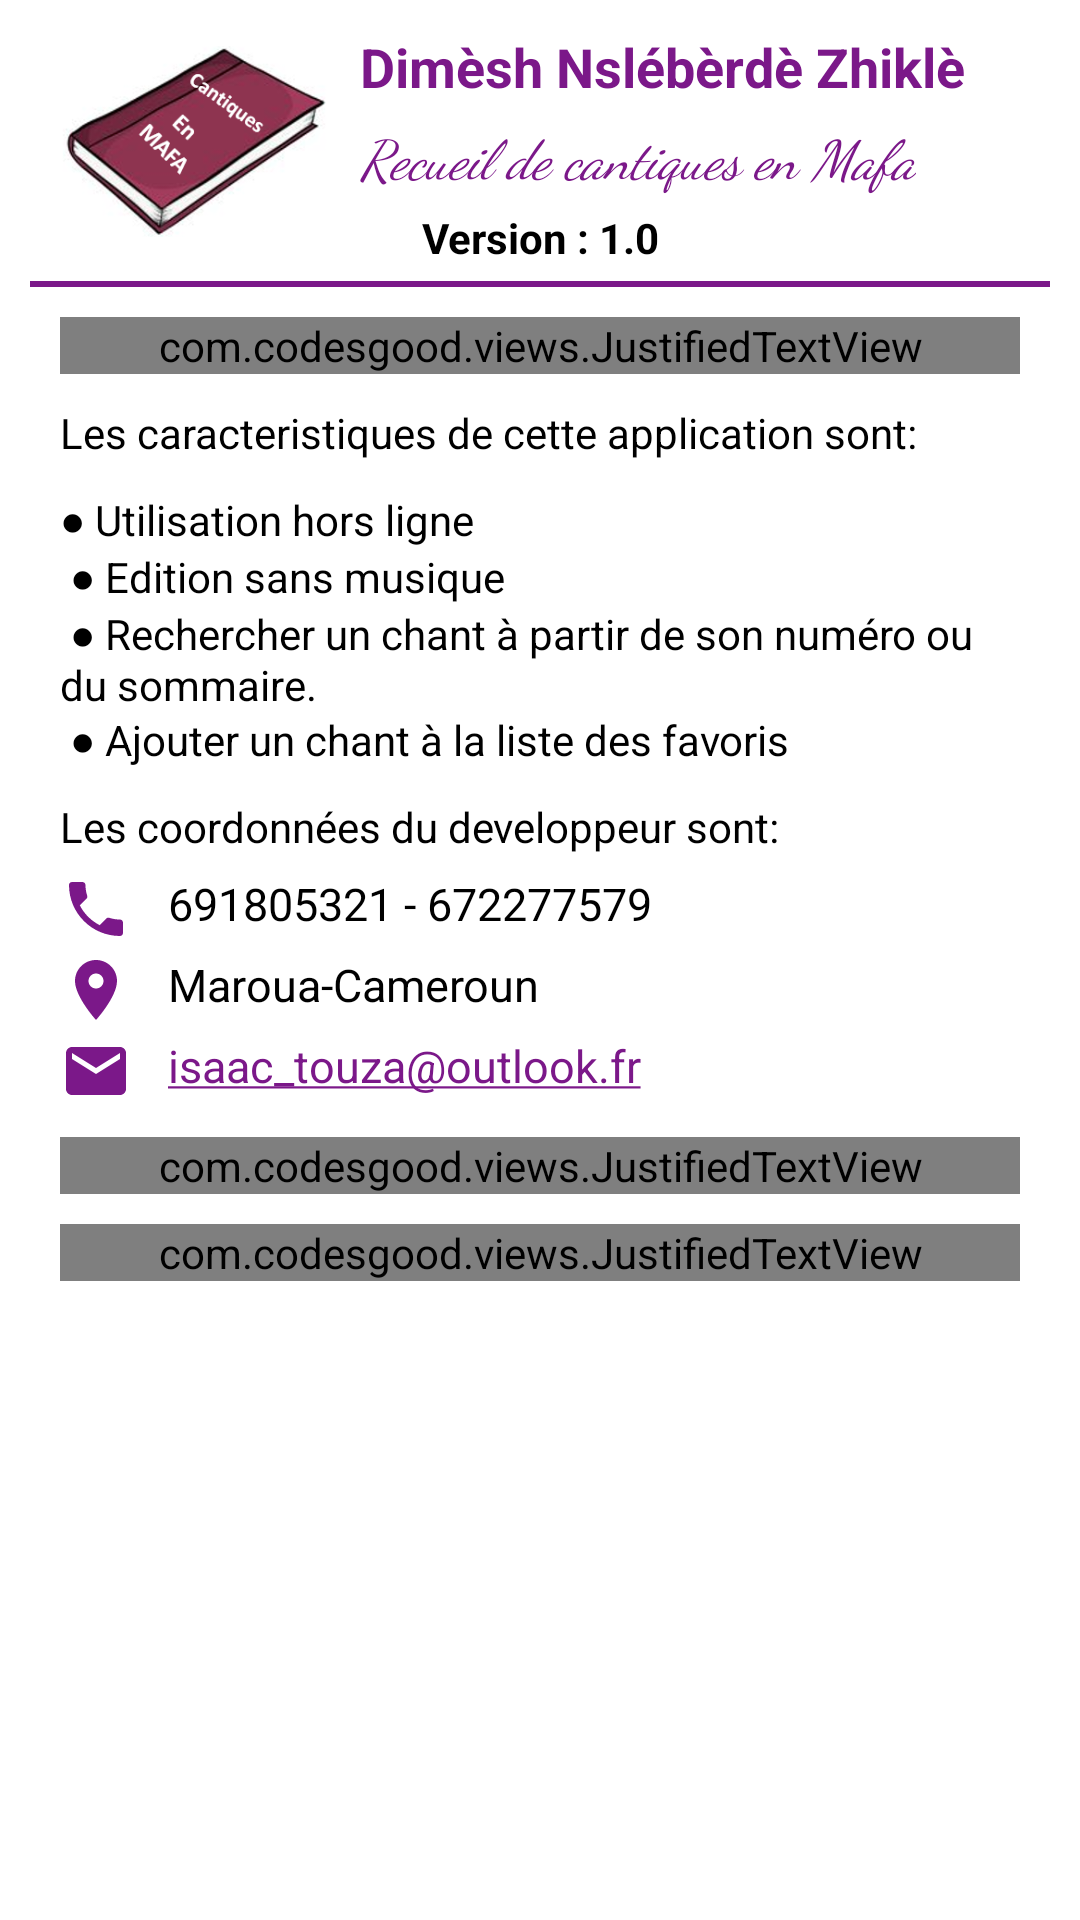

Icon click points for this 1080w x 1920h phone screenshot, format (x,y):
local phone: (96,909)
mail: (96,1071)
place: (96,990)
